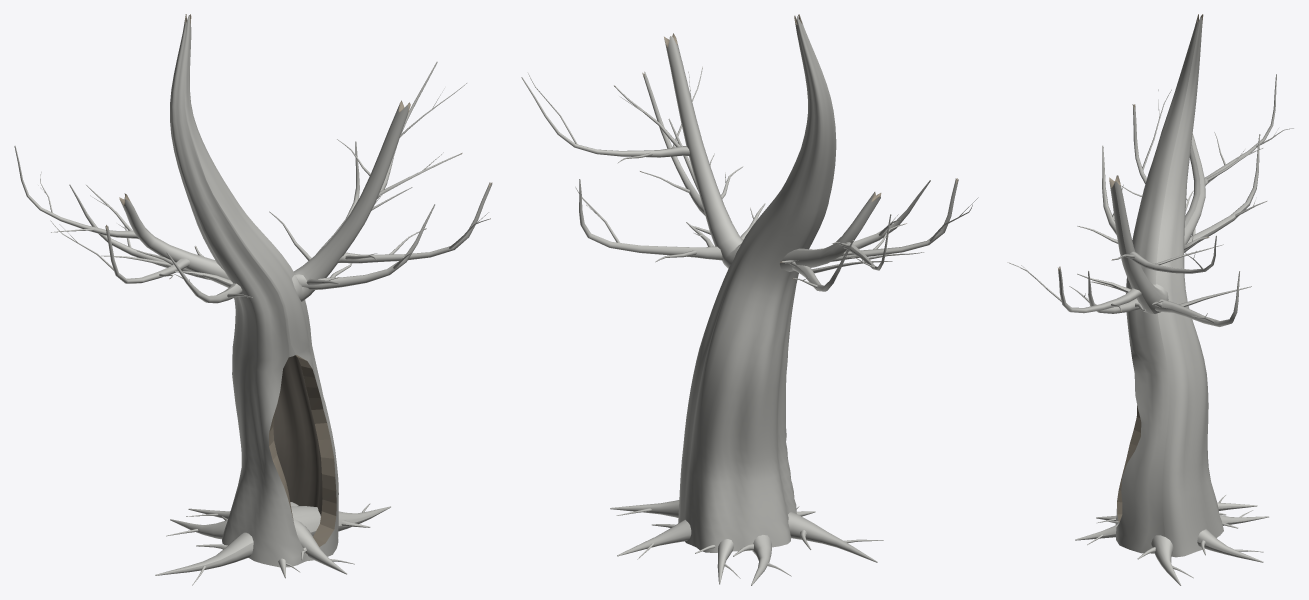
Rendered from corealm_deadwood_hollow.glb.
The picture shows the model from 3 angles, left to right: view 1: azimuth 30°, elevation 25°; view 2: azimuth 150°, elevation 25°; view 3: azimuth 270°, elevation 25°; orthographic projection. The views are drawn at different scales.
Parts seen in each view (by area): view 1: corealm_deadwood_hollow; view 2: corealm_deadwood_hollow; view 3: corealm_deadwood_hollow.
Boxes of the visible parts, x1,y1,x2,y2 form: corealm_deadwood_hollow: (14,14,492,585); corealm_deadwood_hollow: (521,14,978,585); corealm_deadwood_hollow: (1007,14,1293,585).
Size of the model in its own units: 7.4 by 8.88 by 4.76.
